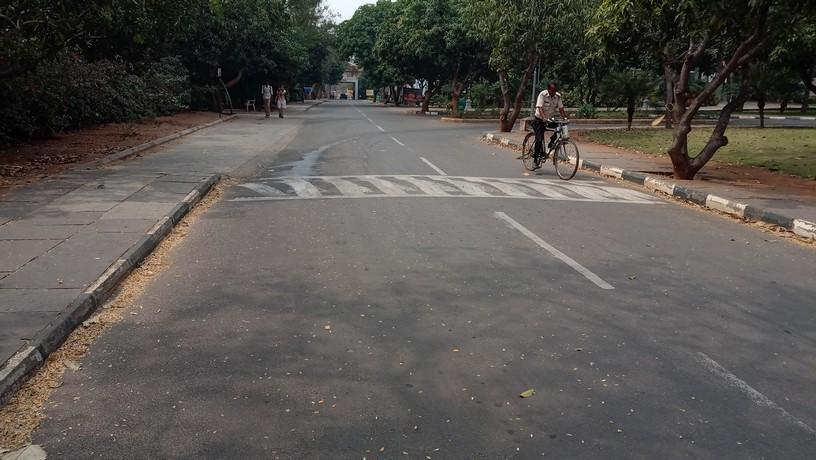speedbreaker: (229, 175, 671, 207)
